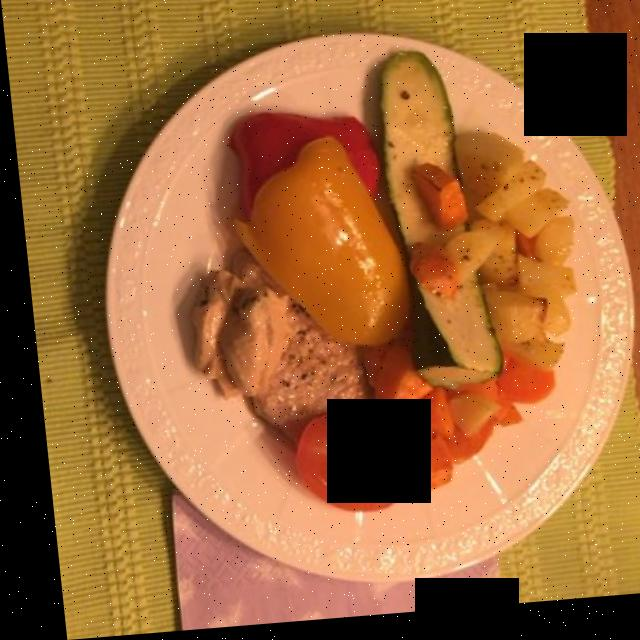chicken: (174, 266, 371, 425)
mixed-vegetables: (218, 69, 537, 512)
potatoes-steamed: (452, 145, 575, 358)
